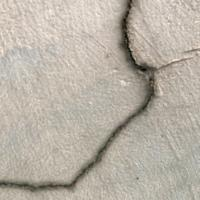crack: (2, 1, 162, 199)
